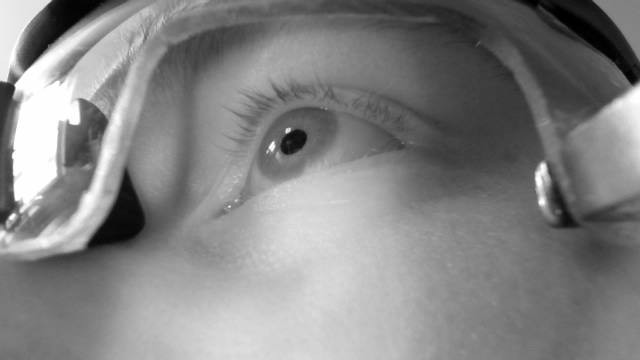pupil: (279, 128, 308, 156)
